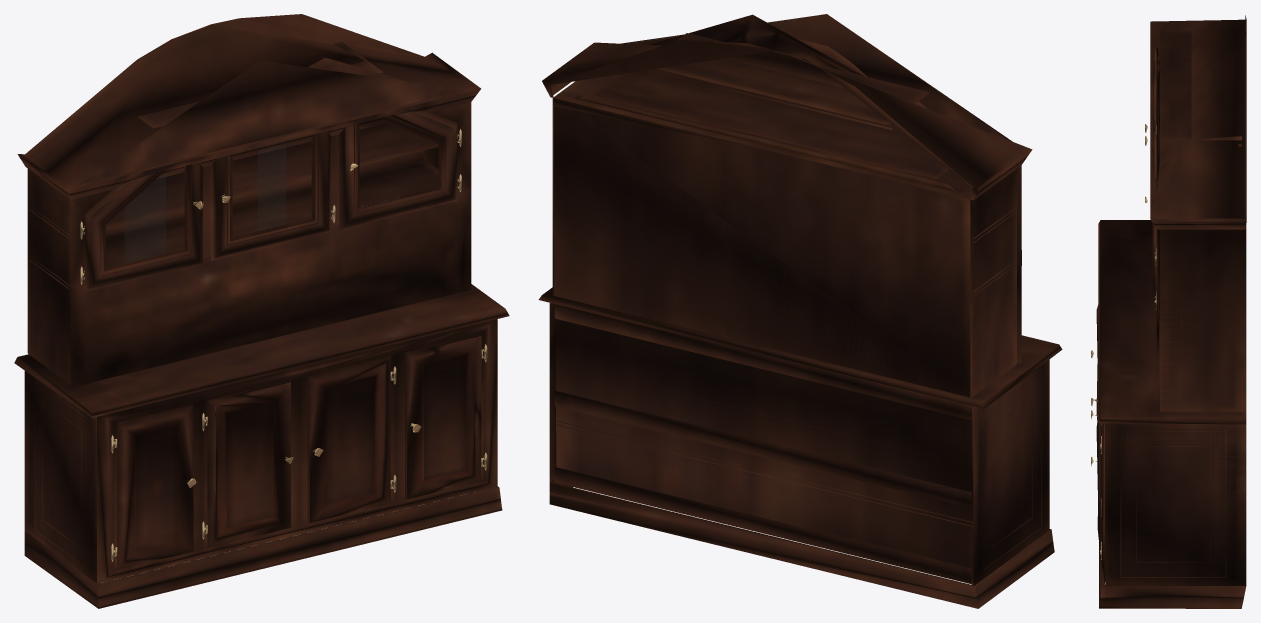
Rendered from prize_cabinet.glb.
3 renders of one model, left to right at view 1: azimuth 30°, elevation 25°; view 2: azimuth 150°, elevation 25°; view 3: azimuth 270°, elevation 25°, orthographic. The views are drawn at different scales.
Visible parts, largest first — view 1: vintage_cabinet_01_body, vintage_cabinet_01_door_07, vintage_cabinet_01_door_06, vintage_cabinet_01_door_05, vintage_cabinet_01_door_02, vintage_cabinet_01_door_01, vintage_cabinet_01_door_03, vintage_cabinet_01_door_04; view 2: vintage_cabinet_01_body, vintage_cabinet_01_door_03; view 3: vintage_cabinet_01_body, vintage_cabinet_01_door_04, vintage_cabinet_01_door_02, vintage_cabinet_01_door_03.
Boxes of the visible parts, x1,y1,x2,y2 form: vintage_cabinet_01_body: (14,14,509,608); vintage_cabinet_01_door_07: (307,356,393,523); vintage_cabinet_01_door_06: (205,380,293,547); vintage_cabinet_01_door_05: (114,404,196,569); vintage_cabinet_01_door_02: (405,334,484,499); vintage_cabinet_01_door_01: (83,163,203,291); vintage_cabinet_01_door_03: (211,132,332,260); vintage_cabinet_01_door_04: (339,111,459,229); vintage_cabinet_01_body: (538,14,1062,608); vintage_cabinet_01_door_03: (783,38,867,76); vintage_cabinet_01_body: (1098,15,1246,608); vintage_cabinet_01_door_04: (1145,125,1156,314); vintage_cabinet_01_door_02: (1091,415,1101,564); vintage_cabinet_01_door_03: (1145,60,1156,145).
Size of the model in its own units: 2.02 by 2.21 by 0.6609.
Materials: 3 (2 with a texture image).
